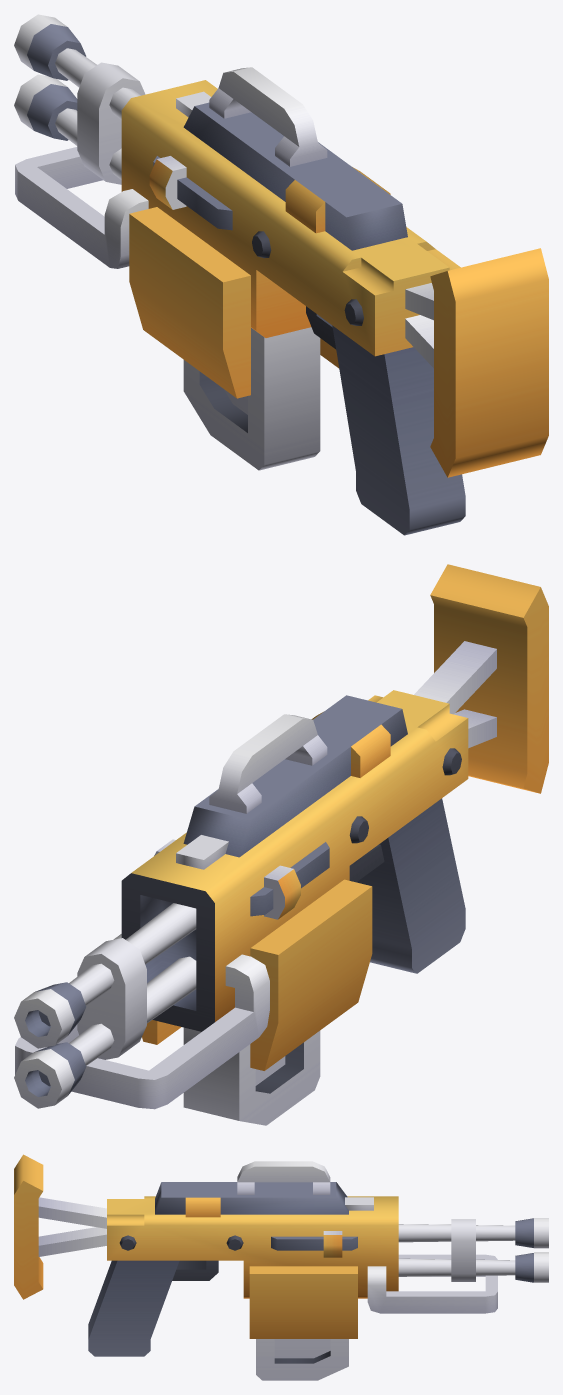
File: blaster-p.glb
3 renders of one model, top to bottom at view 1: azimuth 30°, elevation 25°; view 2: azimuth 150°, elevation 25°; view 3: azimuth 270°, elevation 25°, orthographic. The views are drawn at different scales.
Visible parts, largest first — view 1: blaster-p, magazine; view 2: blaster-p, magazine; view 3: blaster-p, magazine.
Boxes of the visible parts, <box> form: blaster-p: <box>14,14,548,535</box>; magazine: <box>183,327,320,470</box>; blaster-p: <box>14,564,548,1109</box>; magazine: <box>183,1027,320,1125</box>; blaster-p: <box>14,1154,548,1356</box>; magazine: <box>256,1339,348,1380</box>.
Bounding box in the file's own units: 0.16 × 0.3709 × 0.8621.
1 material, 1 textured.
